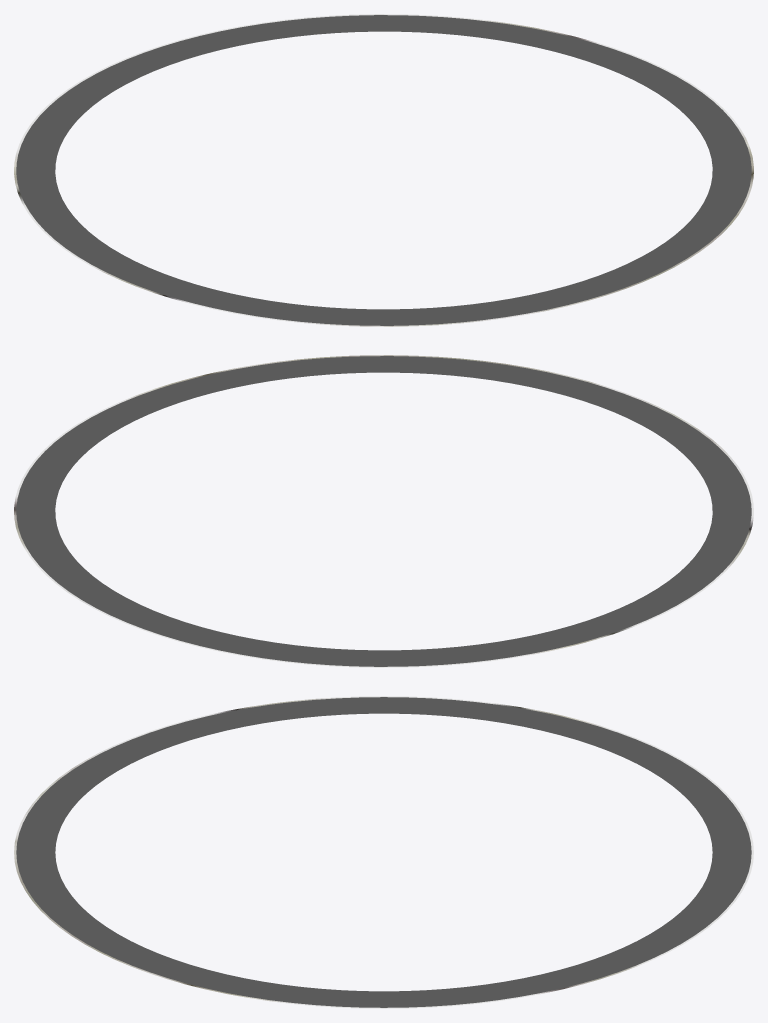
File: OV Floor grill 2.fbx
3 renders of one model, top to bottom at view 1: azimuth 30°, elevation 25°; view 2: azimuth 150°, elevation 25°; view 3: azimuth 270°, elevation 25°, orthographic.
Visible parts, largest first — view 1: polySurface349; view 2: polySurface349; view 3: polySurface349.
Part boxes in pixels (left/top/right/bottom): polySurface349: left=14, top=14, right=753, bottom=326; polySurface349: left=14, top=355, right=753, bottom=667; polySurface349: left=14, top=696, right=753, bottom=1008.
Bounding box in the file's own units: 994 × 0 × 994.
